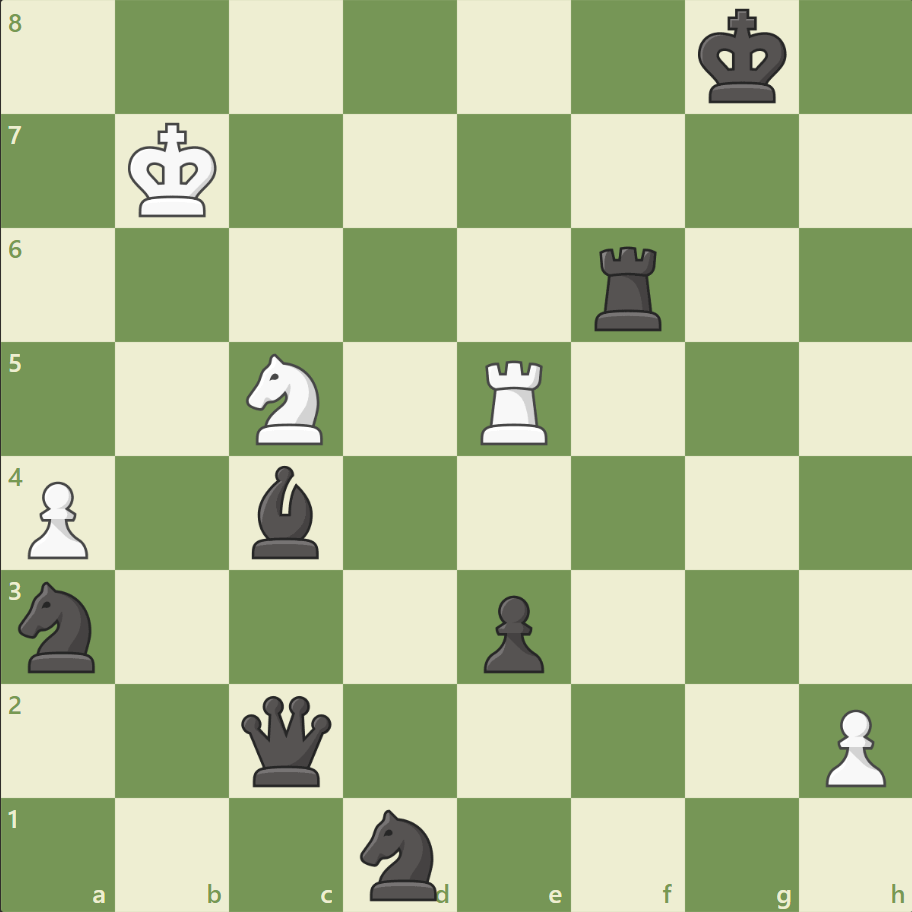K: (124, 117, 224, 225)
N: (238, 348, 335, 450)
P: (20, 473, 95, 564), (815, 700, 889, 791)
R: (473, 352, 556, 449)
b: (244, 460, 328, 563)
k: (692, 4, 792, 112)
n: (351, 802, 449, 904), (11, 575, 108, 677)
p: (474, 586, 549, 677)
q: (237, 690, 336, 789)
r: (587, 239, 670, 336)
